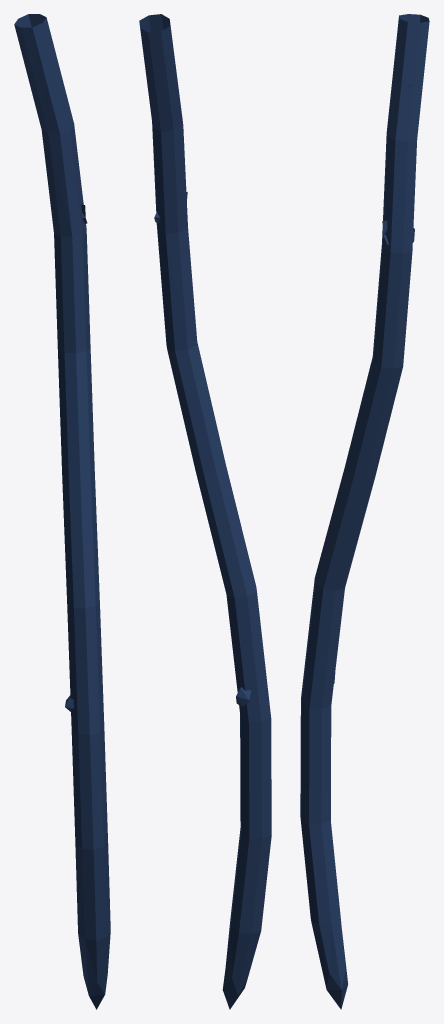
Rendered from Vena Lumbar Ascendente.FBX.
3 renders of one model, left to right at view 1: azimuth 90°, elevation 25°; view 2: azimuth 150°, elevation 25°; view 3: azimuth 330°, elevation 25°, orthographic. The views are drawn at different scales.
Visible parts, largest first — view 1: CS_Veins; view 2: CS_Veins; view 3: CS_Veins.
Part boxes in pixels (box(x1,y1,x2,y2)): CS_Veins: box(14, 14, 110, 1009); CS_Veins: box(139, 14, 271, 1009); CS_Veins: box(300, 14, 429, 1009).
Size of the model in its own units: 45.58 by 423 by 38.1.
